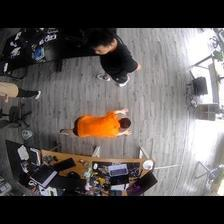fall: (59, 107, 133, 139)
normal: (90, 30, 137, 87), (1, 76, 42, 102)
